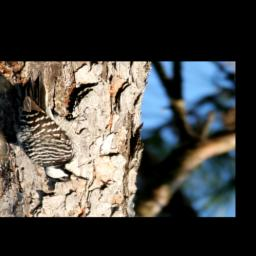Woodpecker: (15, 71, 90, 183)
